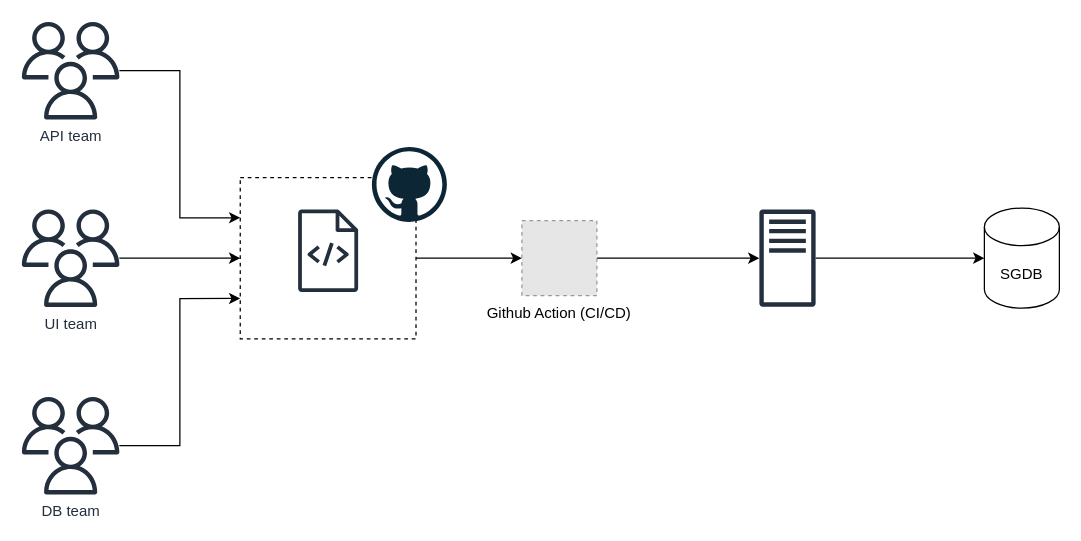
This 1081x541 diagram has some shape labels left out. Grey dashed boxes stand in for pictures. The centre of each missing label's shape, as x and y in pixels:
Application Server IIS / Tomcat / NodeJS: pixel 787 257
Github: pixel 409 184
Single codebase: pixel 327 250
